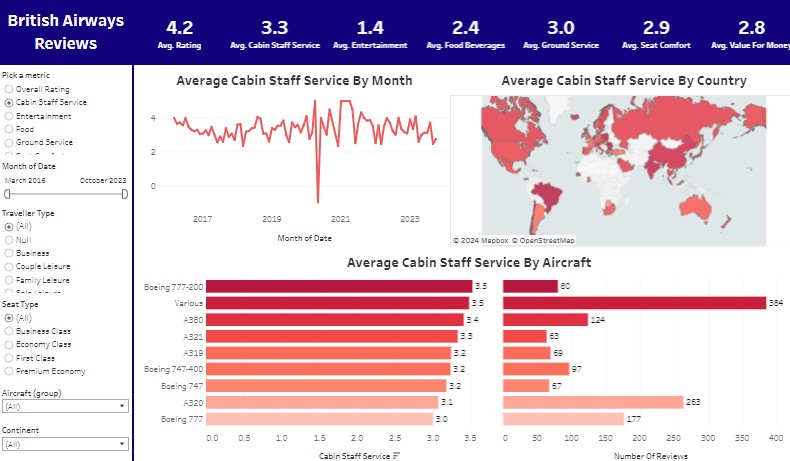

Layout of this report page (visuals, bound fields, positions):
{"tool":"tableau","page":{"name":"Dashboard","canvas":[1200,700],"ordinal":0},"visuals":[{"type":"text","box":[0,0,200,100]},{"type":"worksheet","title":"Summary","mark":"Automatic","box":[200,0,1000,100]},{"type":"blank","box":[200,100,3,600]},{"type":"parameter","param":"[Parameters].[Parameter 1]","box":[0,102,200,136.5]},{"type":"worksheet","title":"Month","mark":"Automatic","rows":["Calculation_1292814584780333056"],"cols":["date"],"box":[211,102,465,270]},{"type":"worksheet","title":"Map","mark":"Multipolygon","box":[677,102,523,270]},{"type":"filter","title":"Map","param":"[federated.16s41cn1gnx1jw12ahwic153out7].[tmn:date:qk]","box":[0,238.5,200,70]},{"type":"filter","title":"Map","param":"[federated.16s41cn1gnx1jw12ahwic153out7].[none:traveller_type:nk]","box":[0,308.5,200,136.5]},{"type":"worksheet","title":"Aircraft","mark":"Automatic","cols":["Calculation_1292814584780333056","ba_reviews.csv_E83158617BC74D39A7E620037F145A6A"],"box":[211,376,989,324]},{"type":"filter","title":"Map","param":"[federated.16s41cn1gnx1jw12ahwic153out7].[none:seat_type:nk]","box":[0,445,200,133]},{"type":"filter","title":"Map","param":"[federated.16s41cn1gnx1jw12ahwic153out7].[Aircraft (group)]","box":[0,578,200,56]},{"type":"filter","title":"Map","param":"[federated.16s41cn1gnx1jw12ahwic153out7].[none:Continent:nk]","box":[0,634,200,56]}]}

Visuals, with their boxes in screenshot pixels (x1, y1, x2, y2), scaled from the page's 1200x700 canvas onto the 790x461 screenshot:
text: [0,0,132,66]
"Summary" worksheet: [132,0,789,66]
blank: [132,66,134,460]
parameter: [0,67,132,157]
"Month" worksheet: [139,67,445,245]
"Map" worksheet (Multipolygon marks): [446,67,789,245]
"Map" filter: [0,157,132,203]
"Map" filter: [0,203,132,293]
"Aircraft" worksheet: [139,248,789,460]
"Map" filter: [0,293,132,381]
"Map" filter: [0,381,132,418]
"Map" filter: [0,418,132,454]
